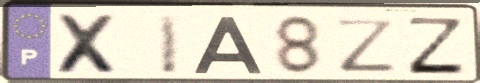8: (270, 14, 324, 77)
A: (191, 15, 266, 76)
I: (156, 12, 182, 77)
X: (52, 12, 125, 77)
Z: (405, 15, 469, 76), (333, 17, 400, 74)
